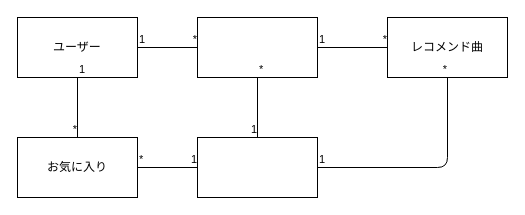
The diagram is 525 pixels wide and 215 high, and some of its shapes have lost their labels. Here are the shapes that lost their labels. From the top down, the centre of each, then its label:
At point 257,47: "レコメンド".
At point 257,167: "楽曲".
